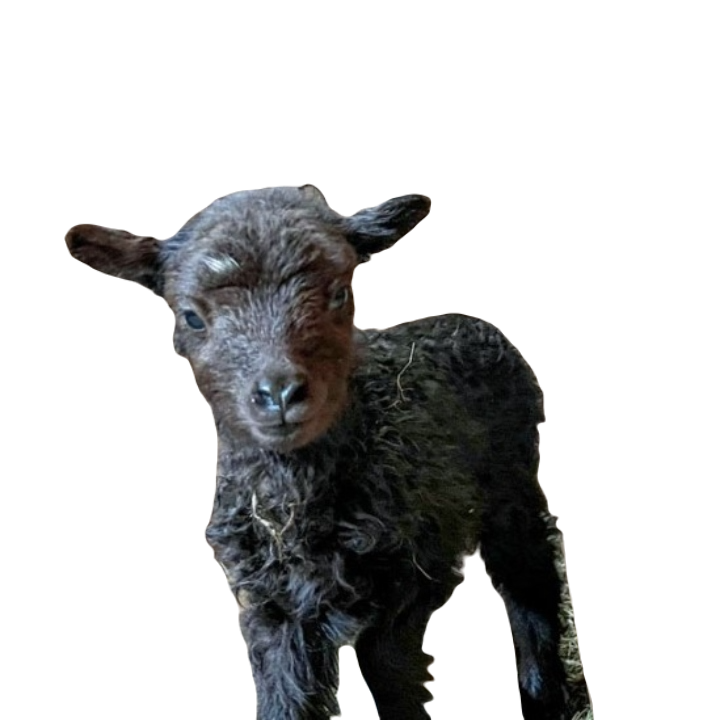Sheep: (58, 178, 603, 719)
